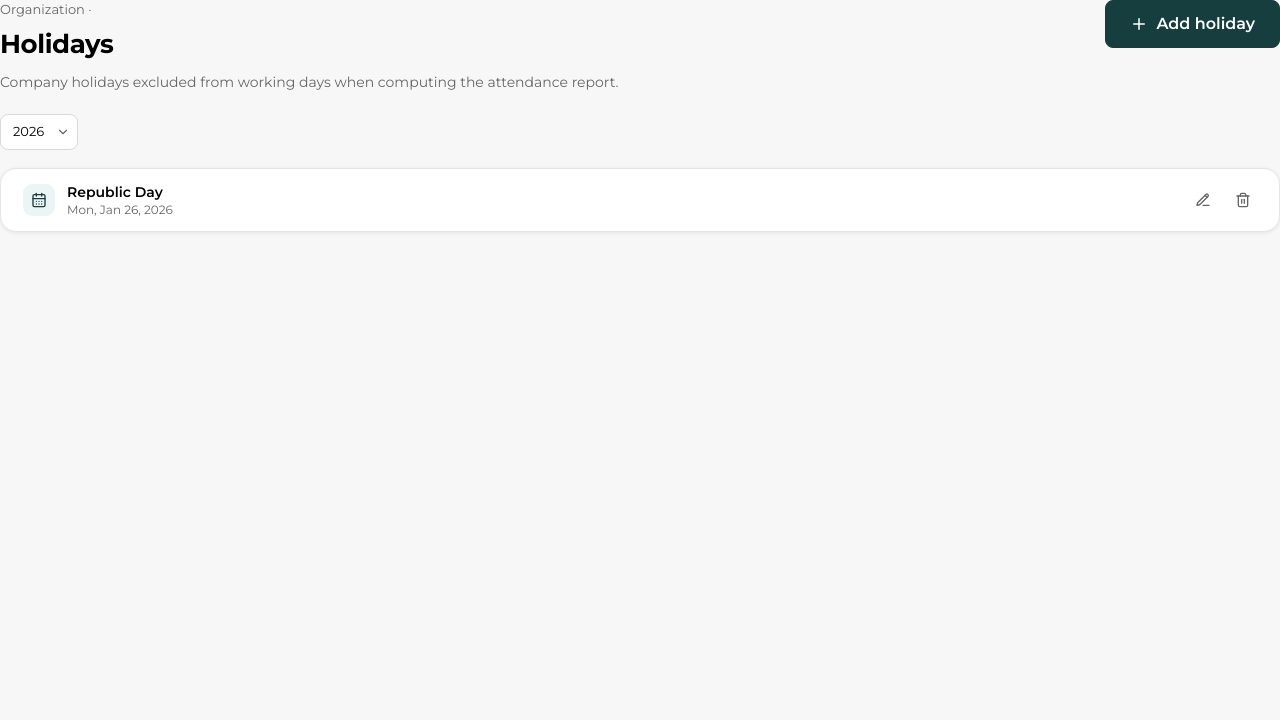
Test: Edit prefills the holiday and updates it via PUT
Check: the text "Republic Day" is shown, box [67, 182, 163, 200]
Click the button named "Edit Republic Day": x=1203, y=200 [1189, 186, 1217, 214]
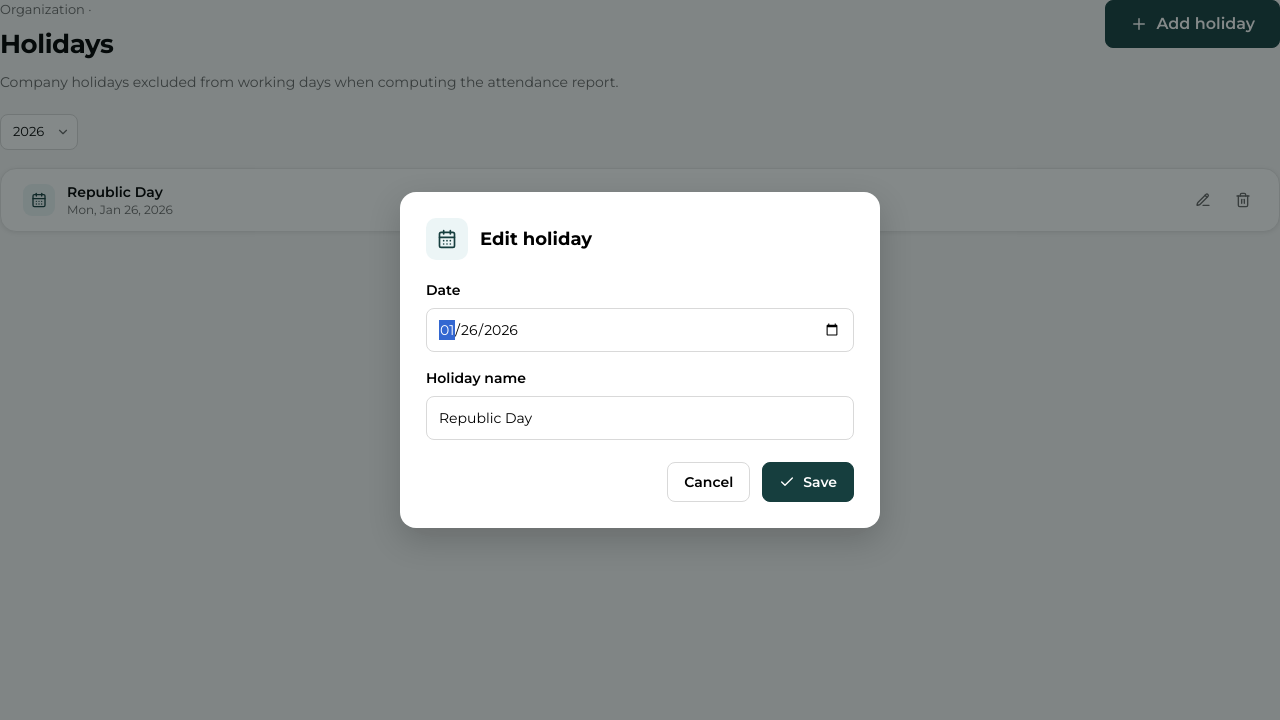
Check: the text "Republic Day" is shown, box [67, 182, 163, 200]
Replace the text in the field labelled "Holiday name" with "Republic Day (renamed)": x=640, y=418 [439, 408, 841, 428]
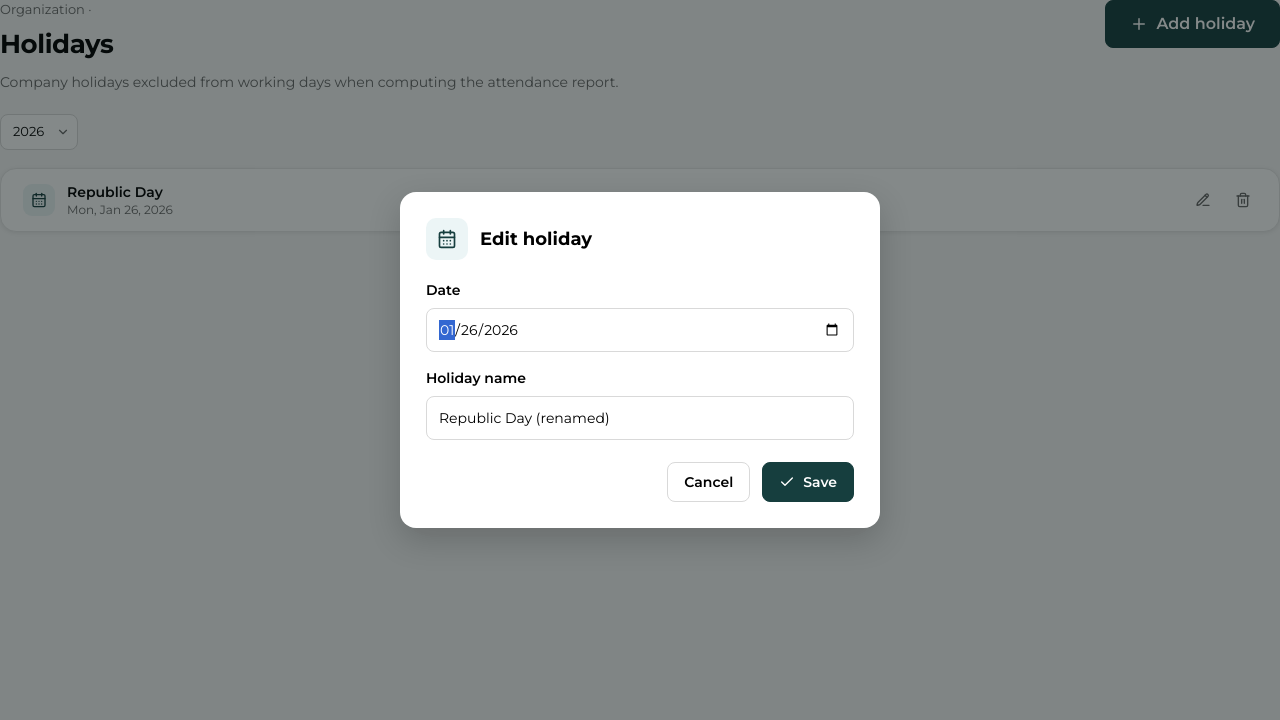
Click the button "Save": x=808, y=482 [762, 462, 854, 502]
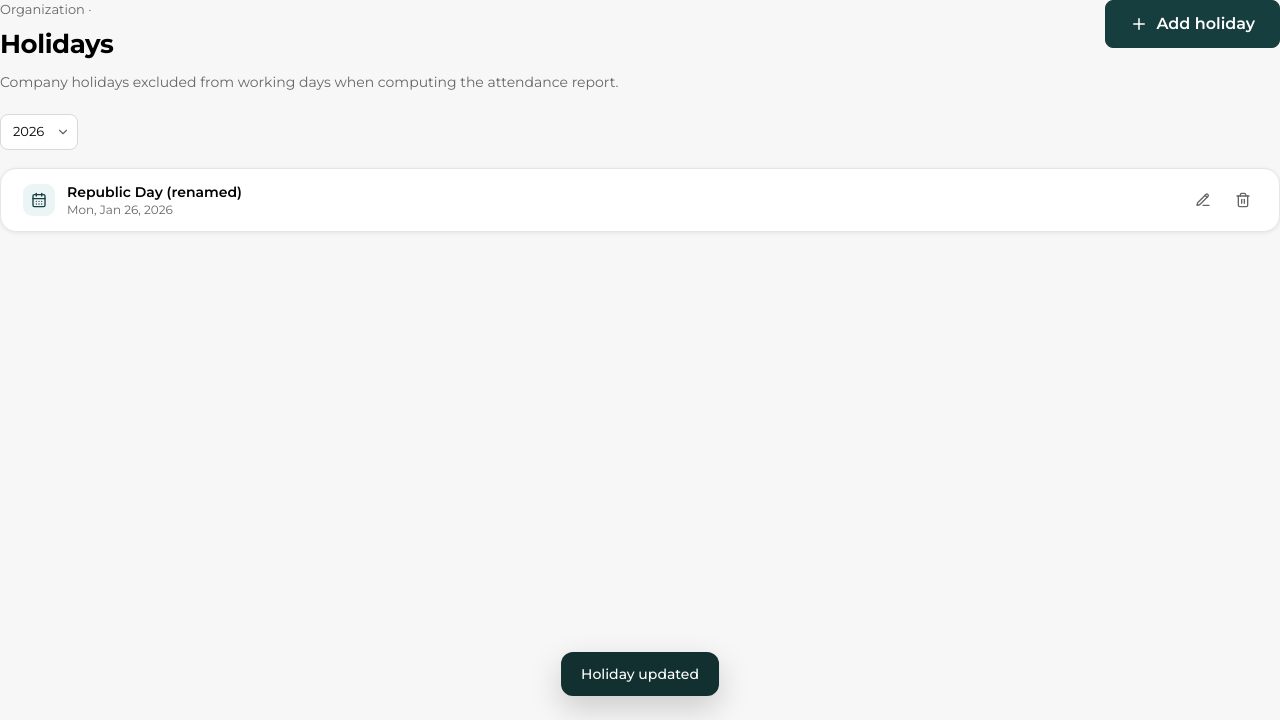
Check: the text "Holiday updated" is shown, box [561, 652, 719, 696]
